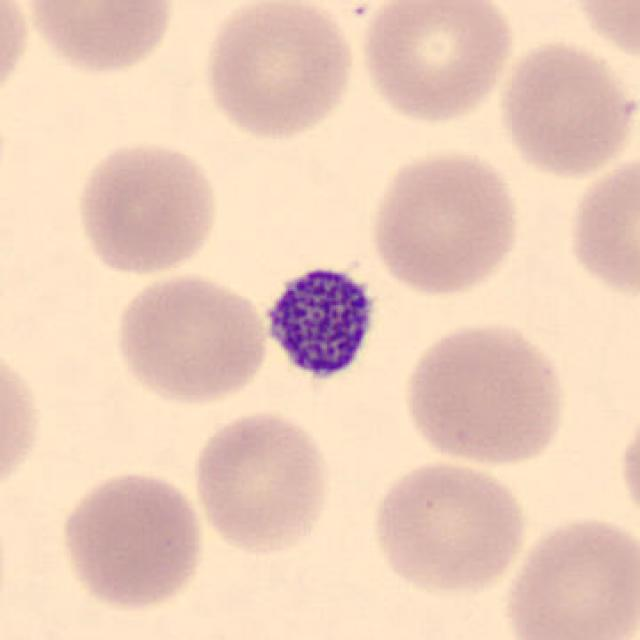Platelets: (252, 254, 382, 393)
RBC: (398, 317, 572, 469), (364, 144, 524, 300), (197, 0, 359, 143), (366, 457, 530, 598), (187, 405, 334, 559), (110, 268, 272, 407), (55, 465, 208, 612), (69, 136, 224, 278), (494, 35, 636, 180), (356, 0, 518, 127), (499, 509, 638, 640), (20, 0, 182, 78), (562, 146, 640, 305), (0, 339, 46, 506), (558, 0, 640, 67), (0, 0, 32, 111), (614, 402, 638, 538)
